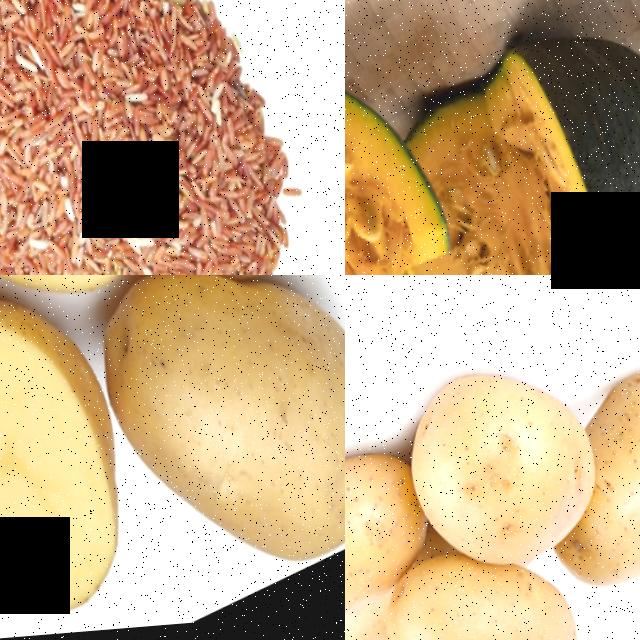potato: (67, 275, 345, 635), (0, 275, 186, 640), (382, 335, 620, 599), (345, 428, 454, 640), (377, 542, 610, 640), (570, 356, 640, 588)
pumpkin: (392, 0, 640, 275), (345, 18, 470, 275)
red rice: (0, 0, 345, 275)
